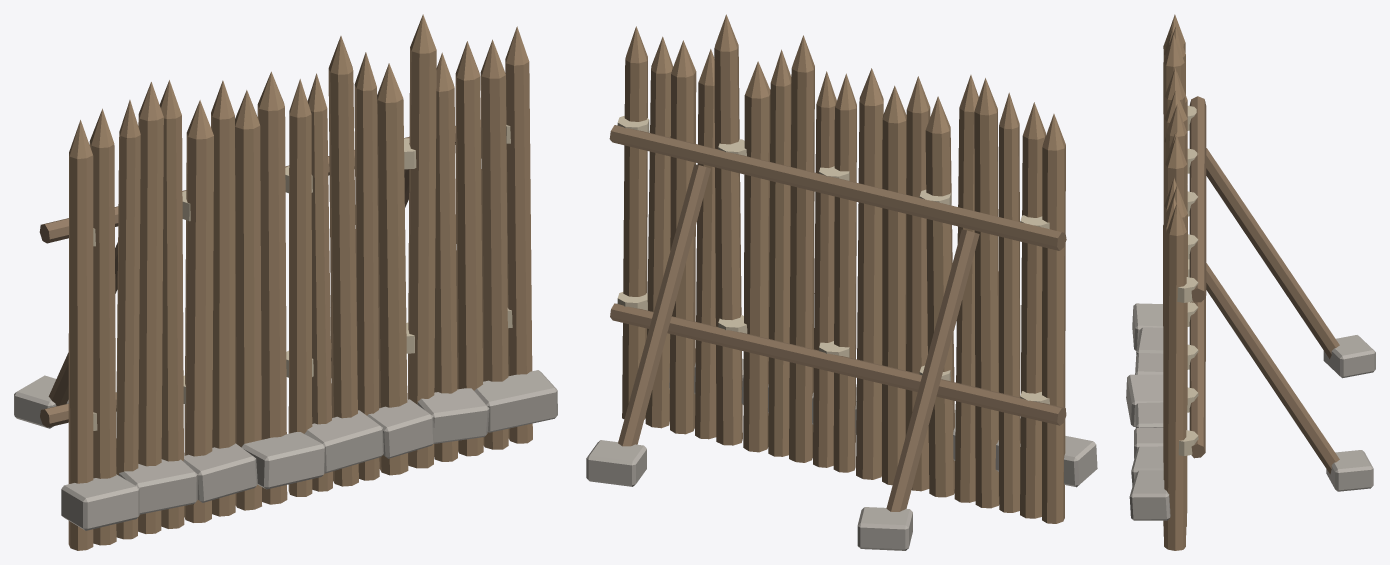
File: P01_木栅栏直段.fbx
3 renders of one model, left to right at view 1: azimuth 30°, elevation 25°; view 2: azimuth 150°, elevation 25°; view 3: azimuth 270°, elevation 25°, orthographic. The views are drawn at different scales.
Visible parts, largest first — view 1: P01_栅木, P01_基石, P01_撑脚石, P01_绑绳, P01_横档, P01_斜撑; view 2: P01_栅木, P01_横档, P01_斜撑, P01_撑脚石, P01_绑绳, P01_基石; view 3: P01_栅木, P01_斜撑, P01_基石, P01_横档, P01_撑脚石, P01_绑绳.
Part boxes in pixels (x1,y1,x2,y2): P01_栅木: (68,14,532,550); P01_基石: (61,370,557,530); P01_撑脚石: (14,308,330,428); P01_绑绳: (93,125,512,430); P01_横档: (39,120,480,427); P01_斜撑: (48,169,409,405); P01_栅木: (622,14,1065,523); P01_横档: (609,125,1066,425); P01_斜撑: (618,164,979,511); P01_撑脚石: (586,440,912,550); P01_绑绳: (617,116,1049,404); P01_基石: (669,348,1097,487); P01_栅木: (1163,14,1187,550); P01_斜撑: (1206,148,1339,474); P01_基石: (1126,303,1170,520); P01_横档: (1189,96,1206,458); P01_撑脚石: (1323,335,1375,491); P01_绑绳: (1177,105,1198,455).
Size of the model in its own units: 408 by 364 by 222.
